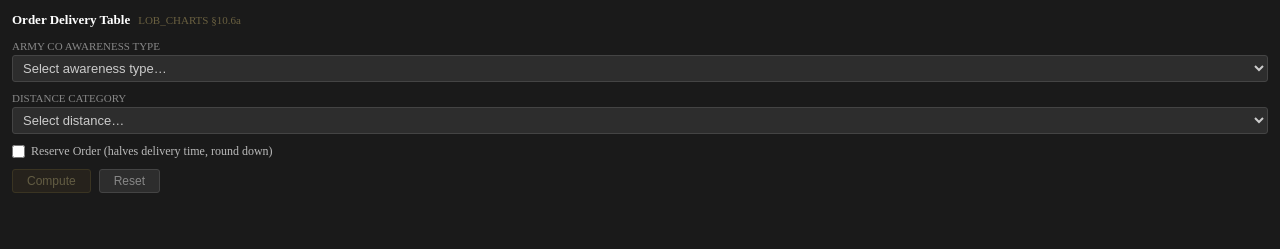
Test: OrderDeliveryPanel › reset clears result
The width and height of the screenshot is (1280, 249).
Select "Normal (+2 turns) — SM default" in the dropdown labelled "Army CO Awareness Type". click: (640, 68)
box: [12,55,1268,82]
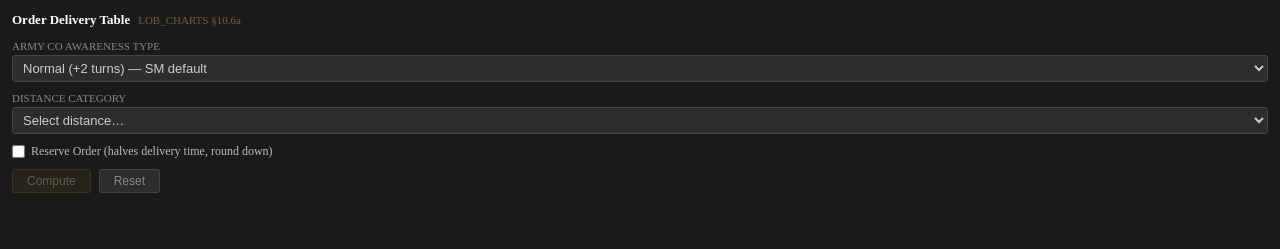
Select "Beyond Command Radius (+2 turns)" in the dropdown labelled "Distance Category". click: (640, 120)
box: [12,107,1268,134]
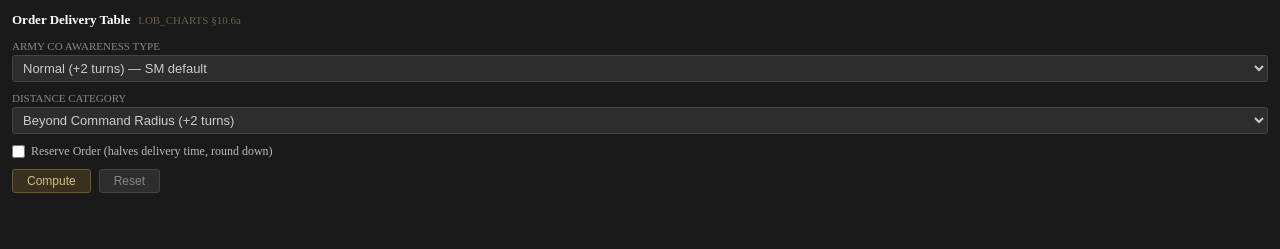
Click the button "Compute". click: (51, 181)
box: [12,169,91,193]
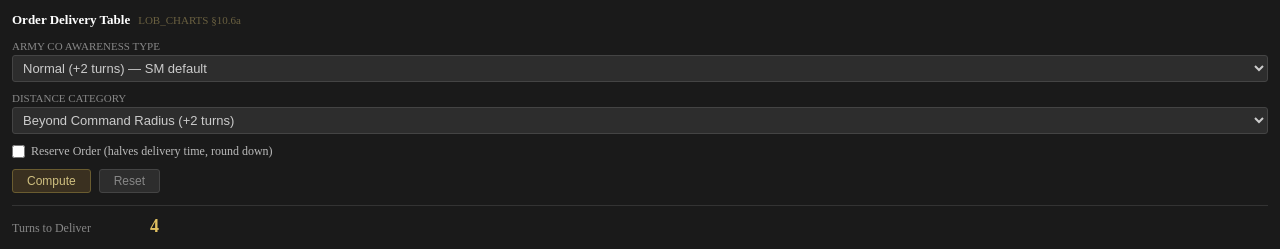
Click the button "Reset". click: (129, 181)
box: [99,169,160,193]
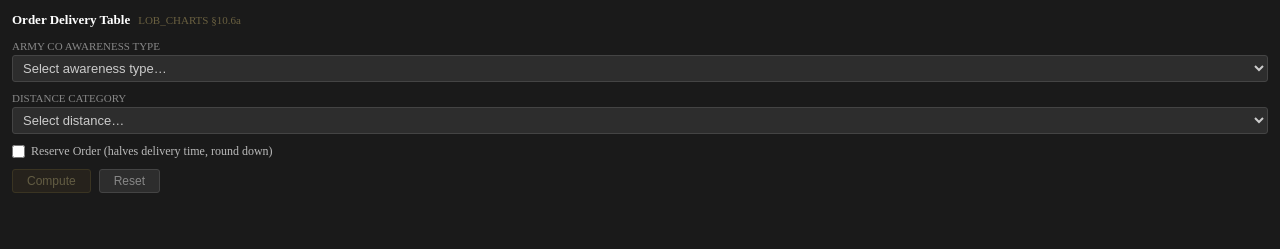
Expected: the text "Turns to Deliver" is gone
